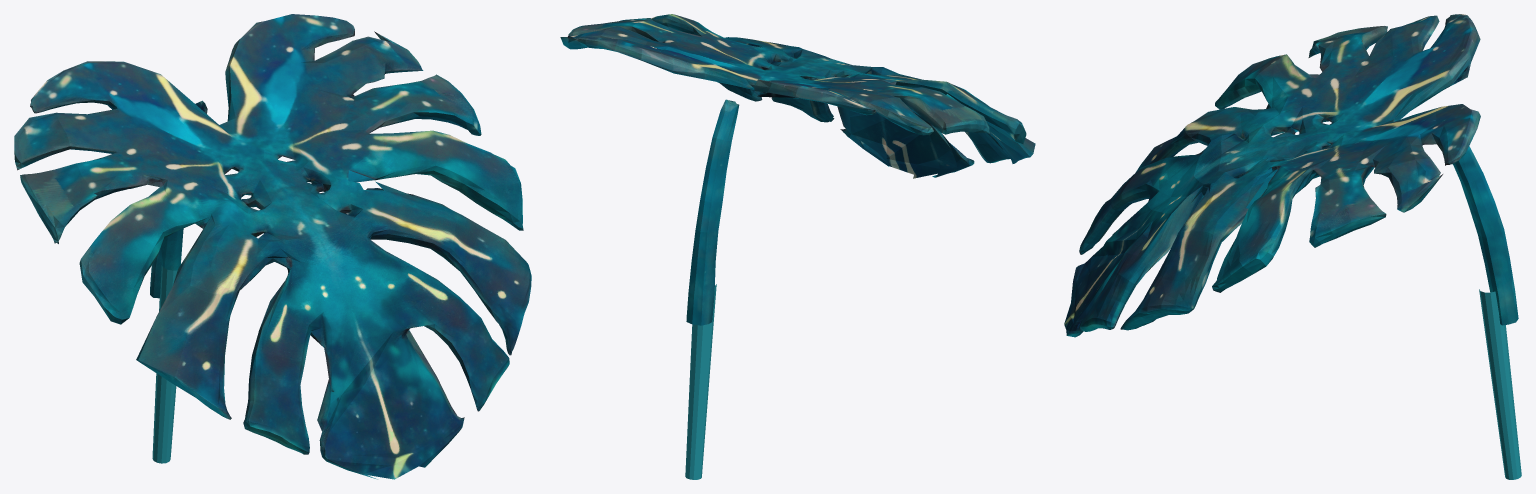
File: mon_galaxy_tealgold_v1.glb
3 views of the same model, side by side, from view 1: azimuth 30°, elevation 25°; view 2: azimuth 150°, elevation 25°; view 3: azimuth 270°, elevation 25° (orthographic). The views are drawn at different scales.
Parts seen in each view (by area): view 1: blade, petiole; view 2: blade, petiole; view 3: blade, petiole.
Boxes of the visible parts, left/top/right/bottom form: blade: left=14, top=14, right=531, bottom=479; petiole: left=152, top=265, right=177, bottom=463; blade: left=560, top=14, right=1035, bottom=325; petiole: left=685, top=284, right=716, bottom=479; blade: left=1064, top=14, right=1518, bottom=337; petiole: left=1479, top=289, right=1521, bottom=479.
Bounding box in the file's own units: 2 × 1.93 × 1.98.
2 materials, 1 textured.
